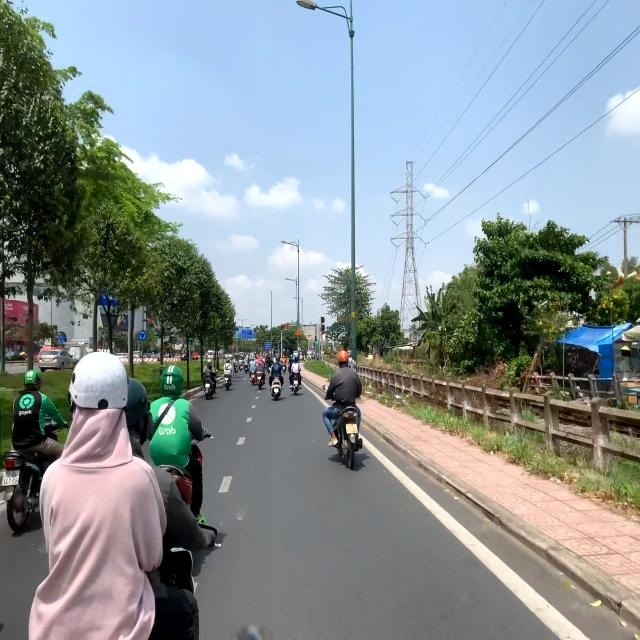bien_nguy_hiem: (139, 331, 146, 340), (59, 336, 64, 343)
